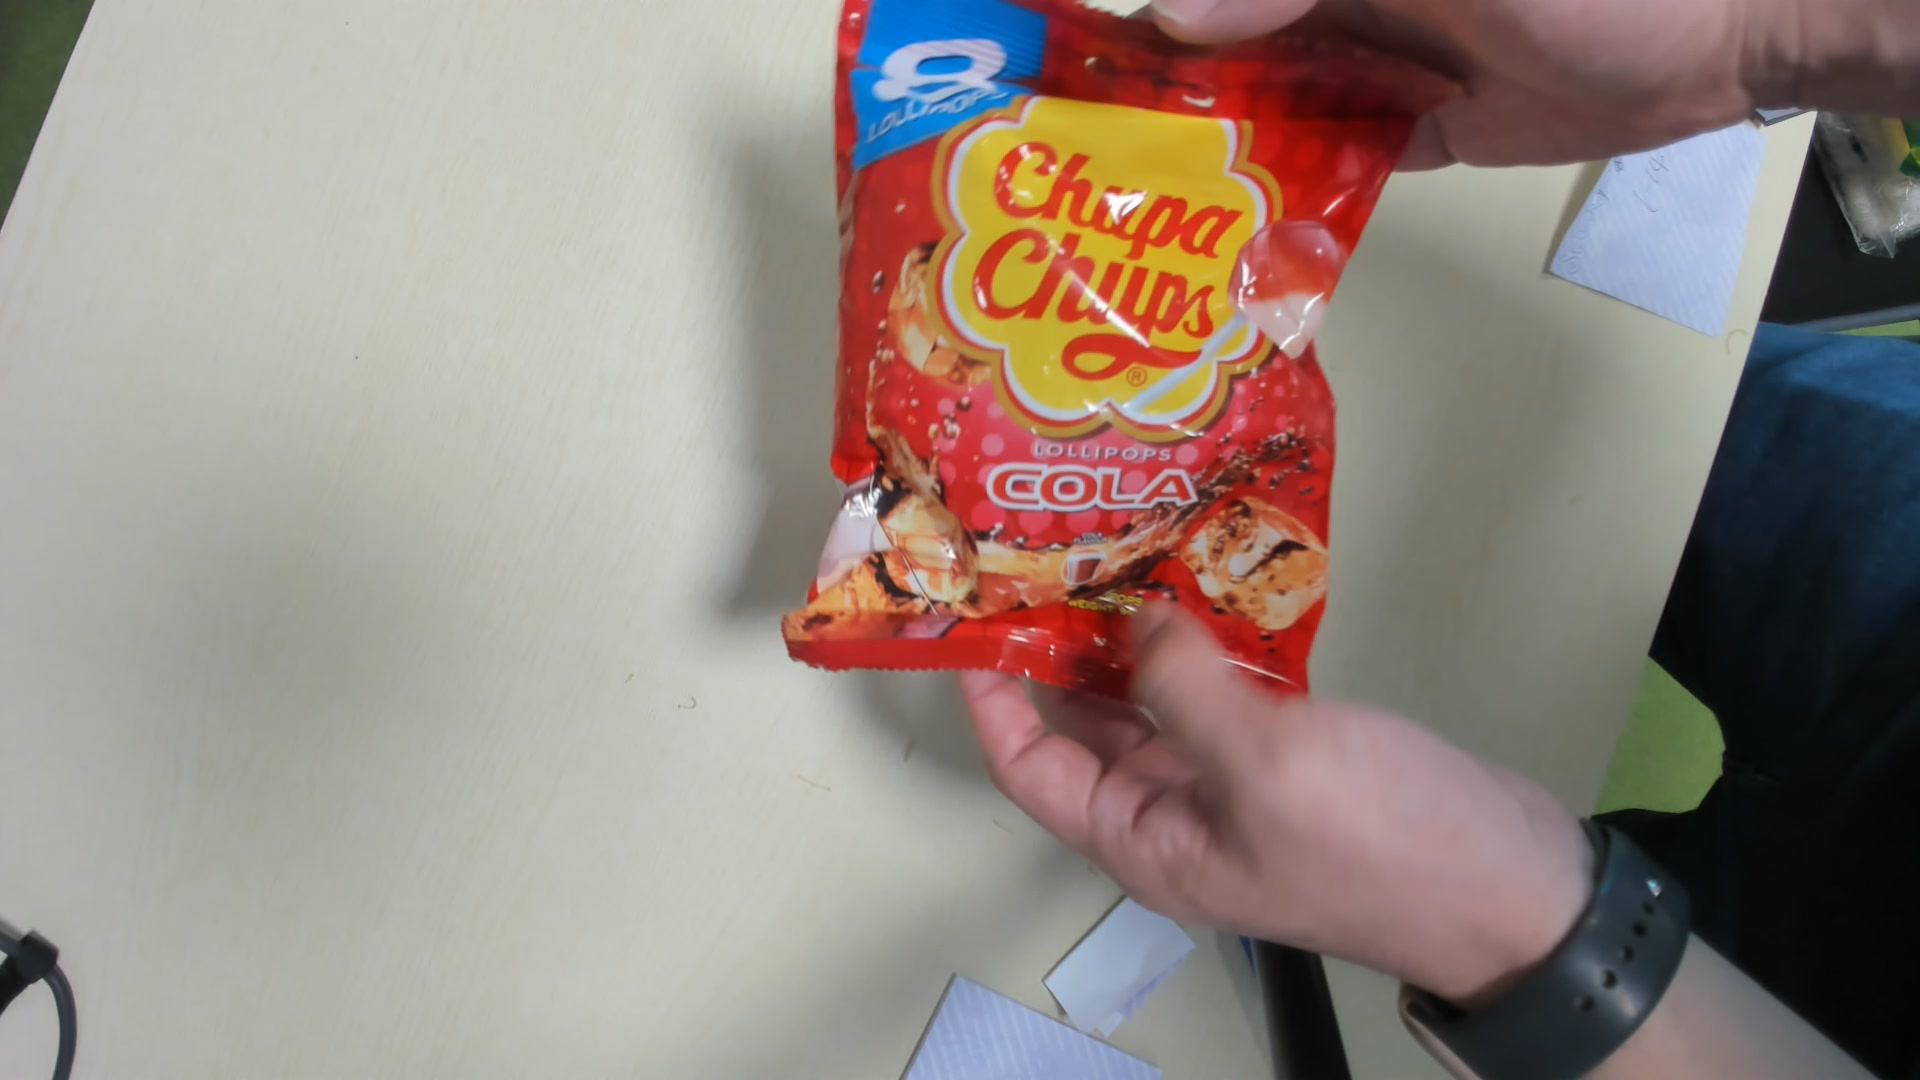SweetsChocolatesOthers_0-99g_NonHalal_Nonhealthy: (796, 7, 1433, 683)
